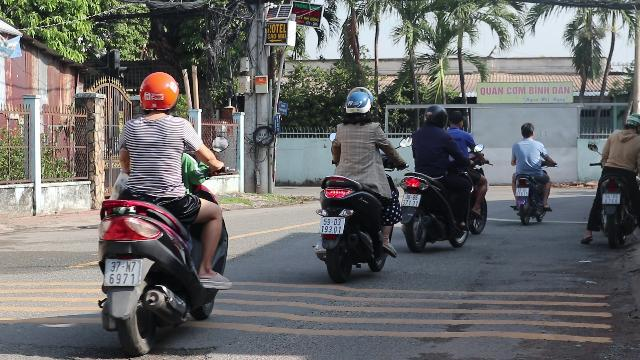helmet: (136, 72, 178, 116), (342, 88, 374, 124), (421, 104, 447, 128), (621, 114, 639, 134)
licenseplate: (104, 259, 140, 285), (319, 218, 345, 234), (402, 194, 421, 207), (602, 193, 620, 204), (516, 188, 528, 196)
motorcyclist: (87, 70, 235, 352), (310, 86, 400, 281), (397, 103, 487, 253), (584, 113, 640, 245), (508, 121, 552, 223)
nohelmet: (448, 109, 464, 128), (519, 122, 535, 138)
